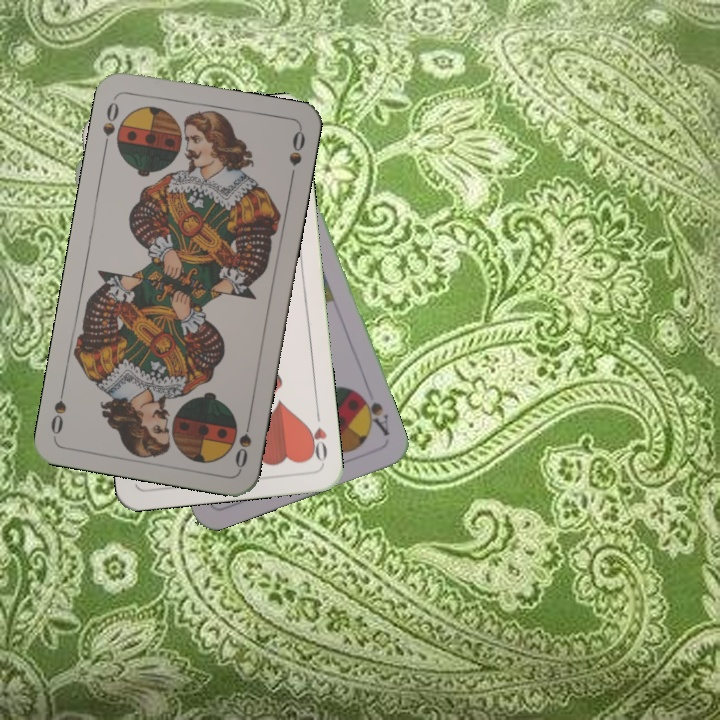HO: (303, 406, 330, 465)
SA: (355, 389, 392, 439)
SO: (98, 94, 122, 153), (231, 412, 254, 471)
